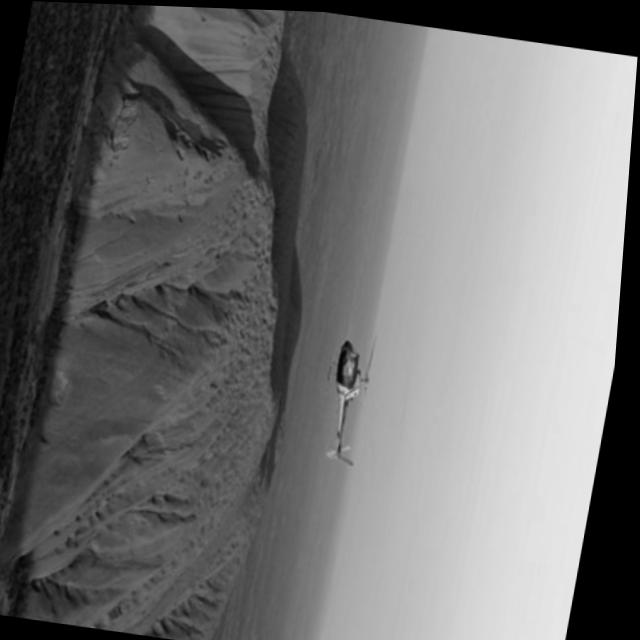helikopter: (310, 312, 408, 475)
